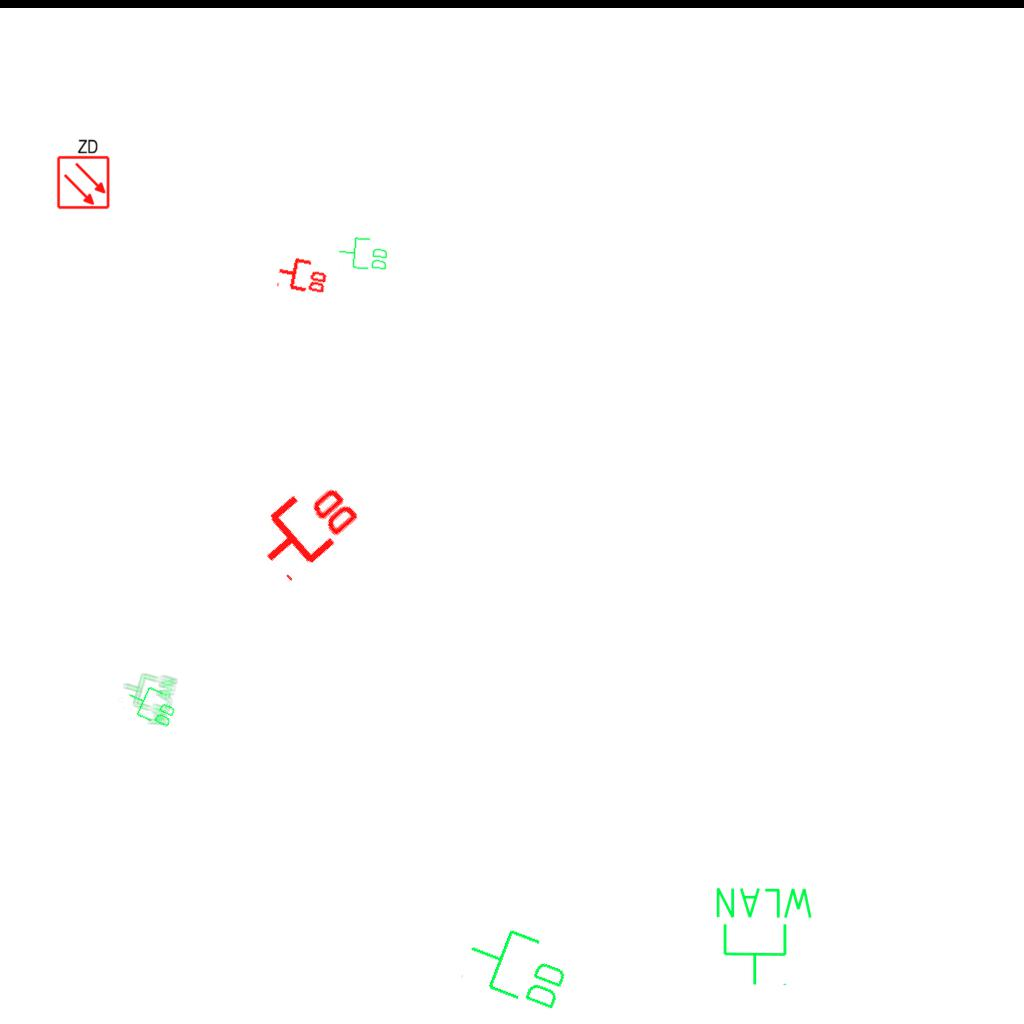Datenanschluss_zweifach: (242, 465, 367, 586), (457, 915, 578, 1018), (121, 679, 182, 731), (274, 252, 332, 297), (336, 234, 391, 274)
WLAN: (712, 884, 817, 988), (114, 664, 180, 730)
ZD_Melder_in_Zwischendecke_mit_Revisionsoeffnung_mind_40_x_40_cm: (54, 136, 111, 210)
